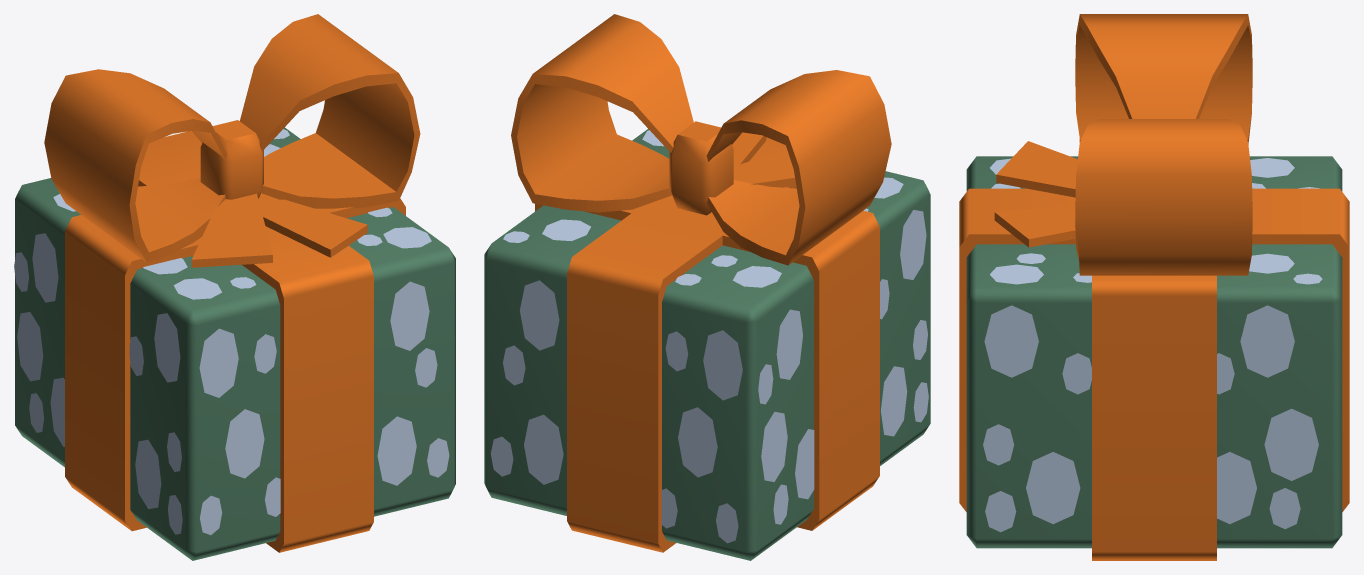
The model's file is Gift_29_231109.glb.
3 views of the same model, side by side, from view 1: azimuth 30°, elevation 25°; view 2: azimuth 150°, elevation 25°; view 3: azimuth 270°, elevation 25° (orthographic). The views are drawn at different scales.
Parts seen in each view (by area): view 1: Gift_29; view 2: Gift_29; view 3: Gift_29.
Boxes of the visible parts, bbox=[...] form: Gift_29: bbox=[14, 14, 455, 560]; Gift_29: bbox=[484, 14, 930, 560]; Gift_29: bbox=[959, 14, 1349, 560].
Bounding box in the file's own units: 0.4758 × 0.6262 × 0.5304.
1 material, 1 textured.
